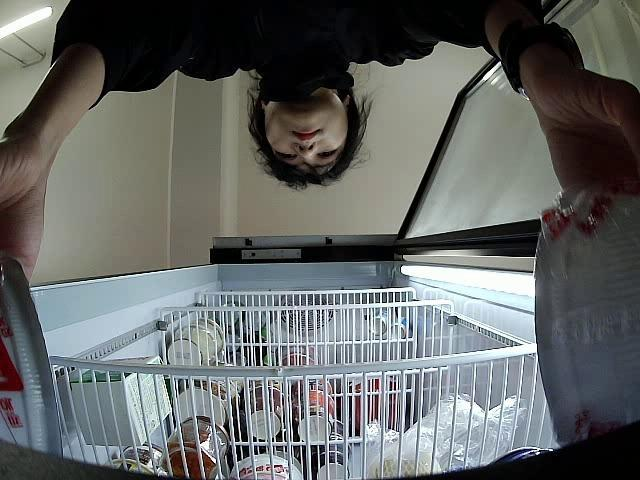09_yukGaeJang: (531, 180, 640, 448), (0, 250, 64, 460)
